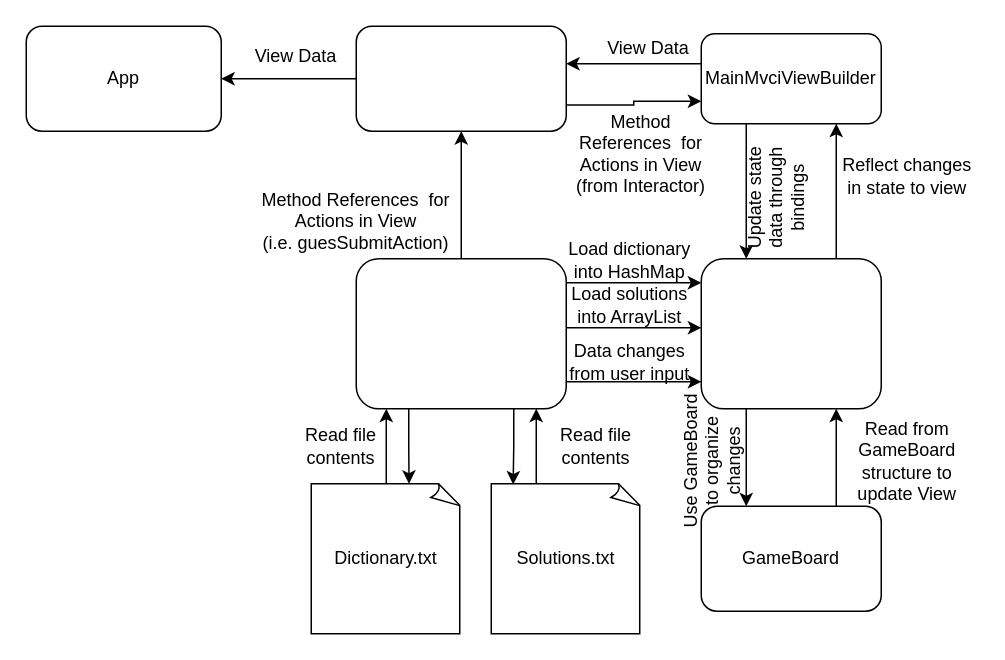
This 1005x660 diagram has some shape labels left out. The shapes that lost their labels are listed below. From the top down, each one's centre as x and y in pixels, then its label:
(x=460, y=78): MainMvciController
(x=460, y=333): MainMvciInteractor
(x=790, y=333): MainMvciModel
